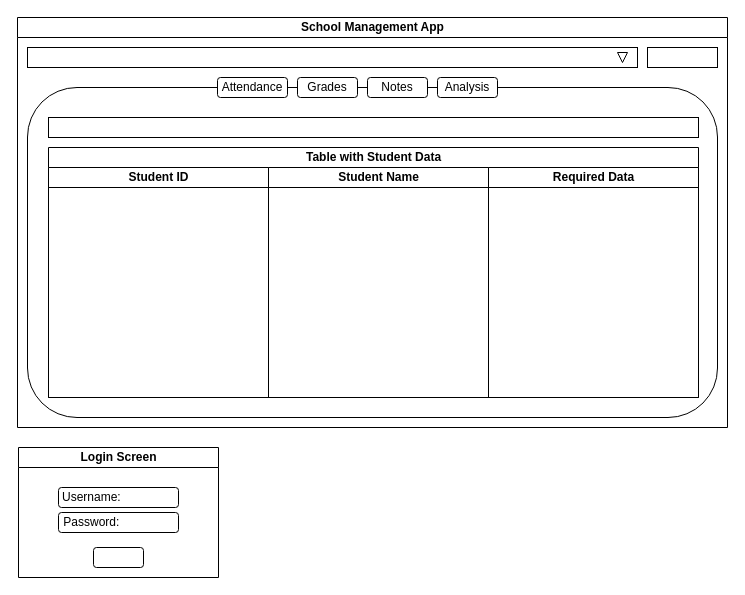
This 745x595 diagram has some shape labels left out. Here are the shapes that lost their labels. From the top down, the centre of each, then its label:
At (332,57): "11 A".
At (682,57): "Logout".
At (373,127): "Possibility to add data".
At (118,557): "Login".
